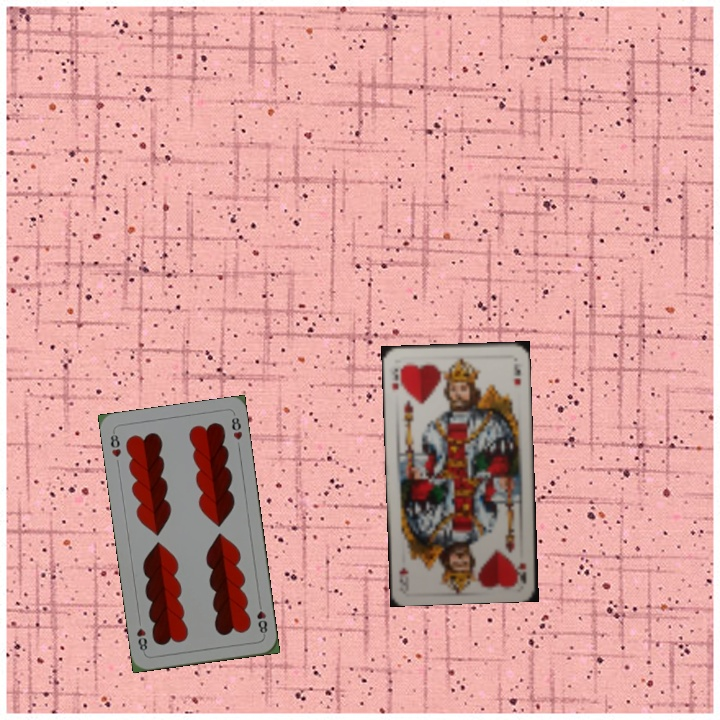H8: (253, 598, 270, 638), (106, 428, 124, 460)
HK: (388, 364, 405, 393), (513, 559, 529, 586)
